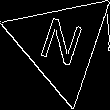N_S: (35, 14, 87, 75)
